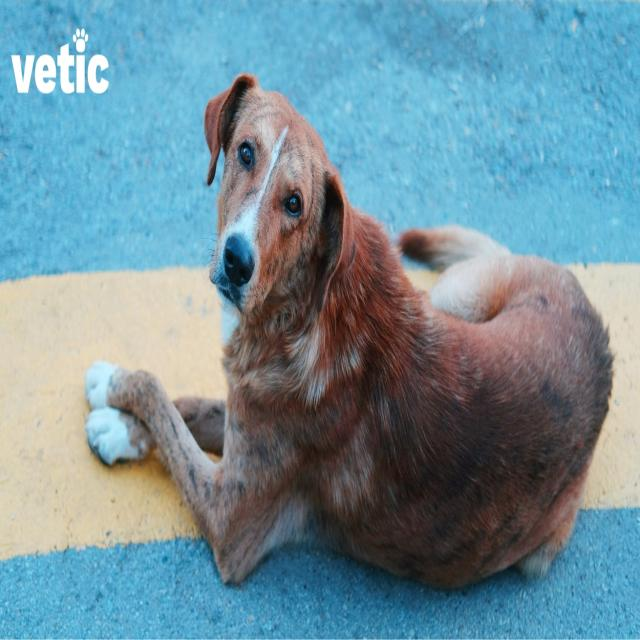fungal infection: (464, 388, 580, 502), (392, 493, 518, 582), (370, 359, 454, 479), (232, 418, 292, 484), (190, 469, 246, 524), (300, 393, 354, 449), (112, 369, 162, 426), (538, 359, 578, 428), (164, 404, 194, 472), (574, 300, 601, 360), (284, 243, 313, 294), (514, 287, 552, 323), (226, 148, 239, 222), (309, 214, 331, 256), (264, 245, 286, 284), (243, 184, 264, 202), (350, 241, 356, 273), (253, 132, 262, 152)
